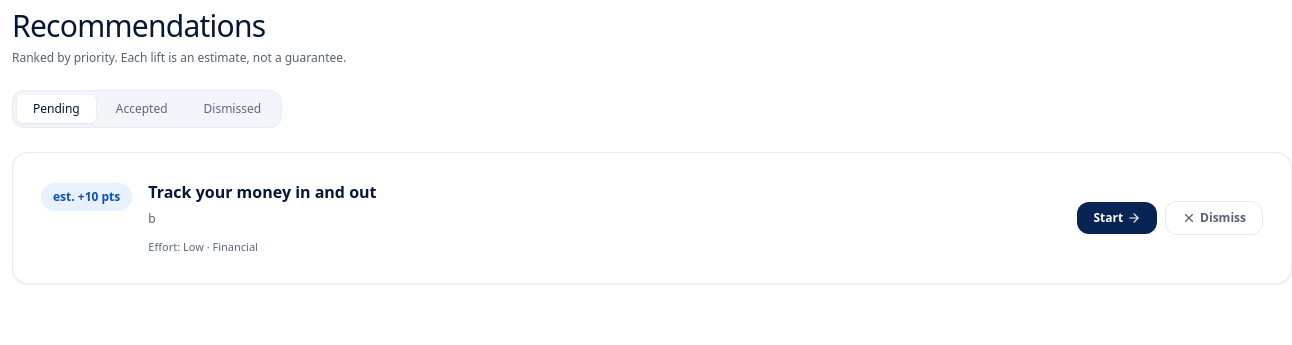
Recommendations › a failed Start stays put and shows the row error
This screenshot has width=1292, height=345.
Click the button "Start". click: (1117, 218)
box: [1077,202,1157,234]
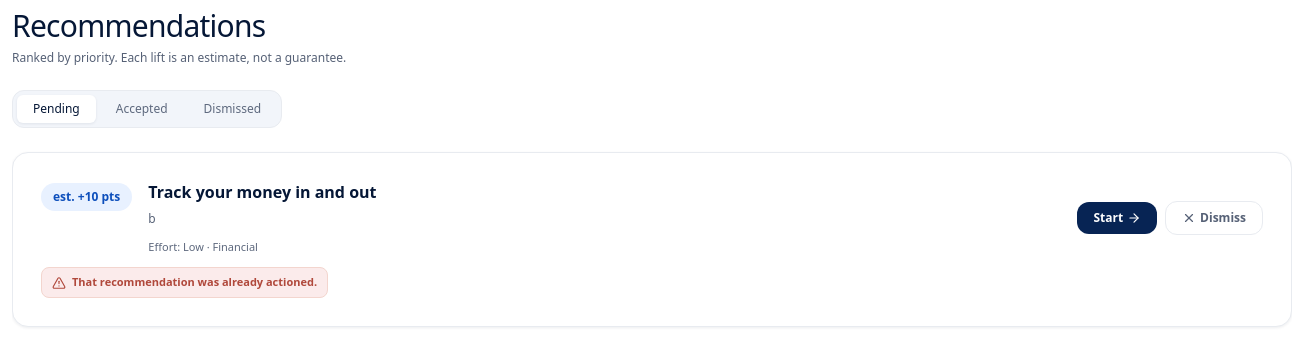
Now the text "That recommendation was already actioned." is shown, box [72,274,317,290]
